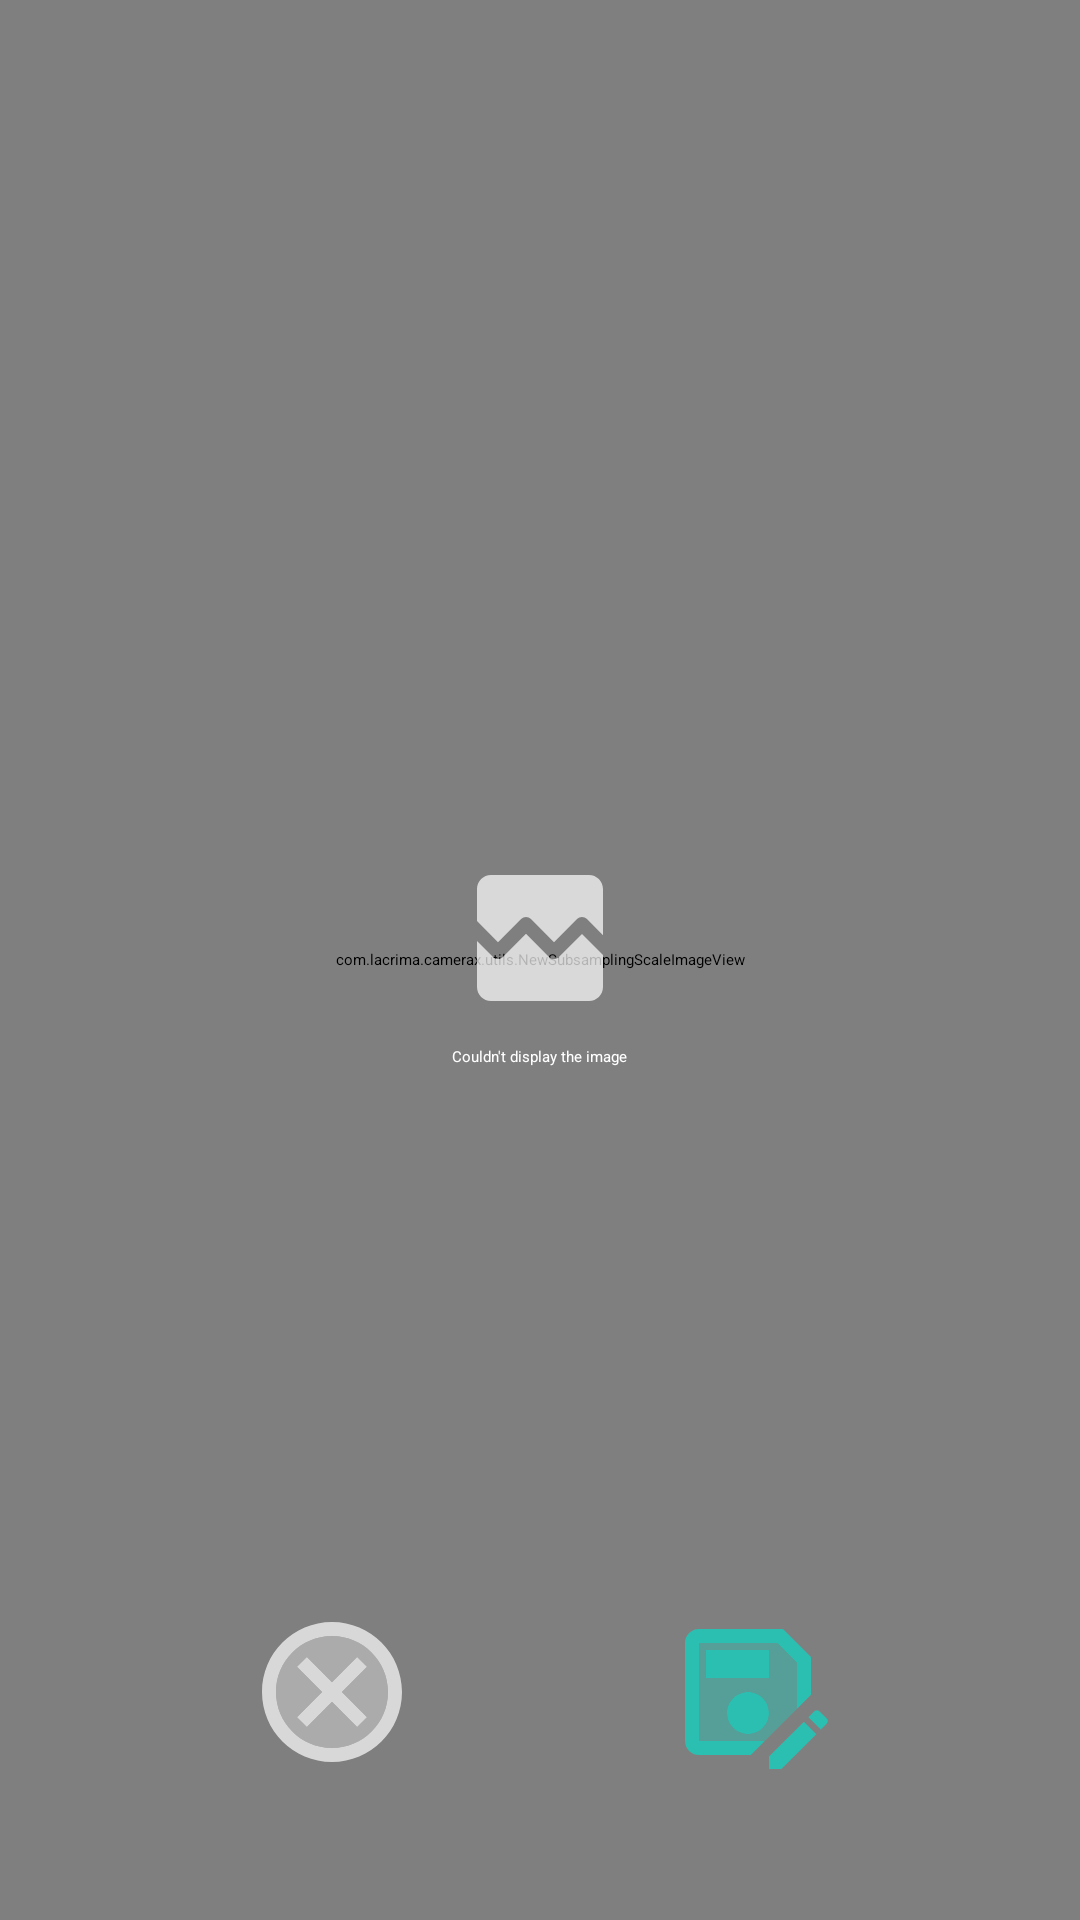

Screen size 1080px x 1920px. Icon name, then its center in pixels as point (x, y):
Cancel: point (332, 1692)
Save image as: point (756, 1699)
